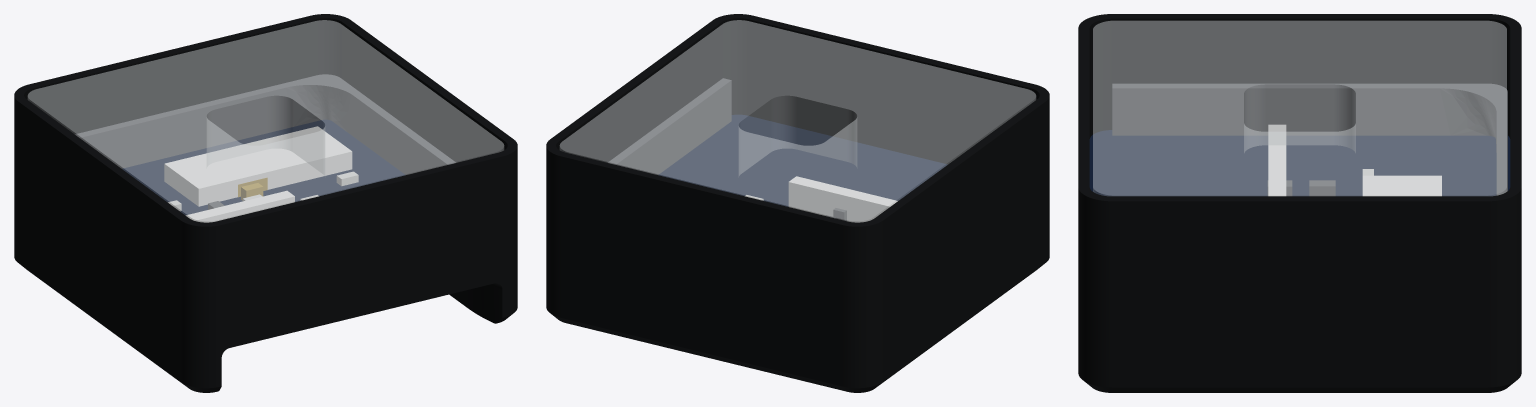
The model's file is load-cell.glb.
3 views of the same model, side by side, from view 1: azimuth 30°, elevation 25°; view 2: azimuth 150°, elevation 25°; view 3: azimuth 270°, elevation 25° (orthographic). The views are drawn at different scales.
Parts seen in each view (by area): view 1: black, glass, grey, derived_amplifier, pcb, derived_header, gold; view 2: black, glass, pcb, grey, derived_header; view 3: black, glass, grey, pcb, derived_amplifier, derived_header.
Part boxes in pixels (box(x1,y1,x2,y2)): black: box(14, 14, 517, 392); glass: box(28, 20, 503, 222); grey: box(75, 74, 455, 209); derived_amplifier: box(164, 126, 352, 206); pcb: box(122, 119, 405, 215); derived_header: box(186, 191, 294, 222); gold: box(238, 178, 267, 200); black: box(546, 14, 1049, 392); glass: box(560, 20, 1035, 222); pcb: box(658, 114, 947, 206); grey: box(608, 78, 846, 220); derived_header: box(788, 176, 897, 222); black: box(1078, 14, 1521, 392); glass: box(1093, 21, 1506, 195); grey: box(1112, 83, 1507, 196); pcb: box(1089, 130, 1510, 196); derived_amplifier: box(1362, 175, 1441, 196); derived_header: box(1268, 124, 1286, 196).
Bounding box in the file's own units: 0.0195 × 0.00954 × 0.0195.
